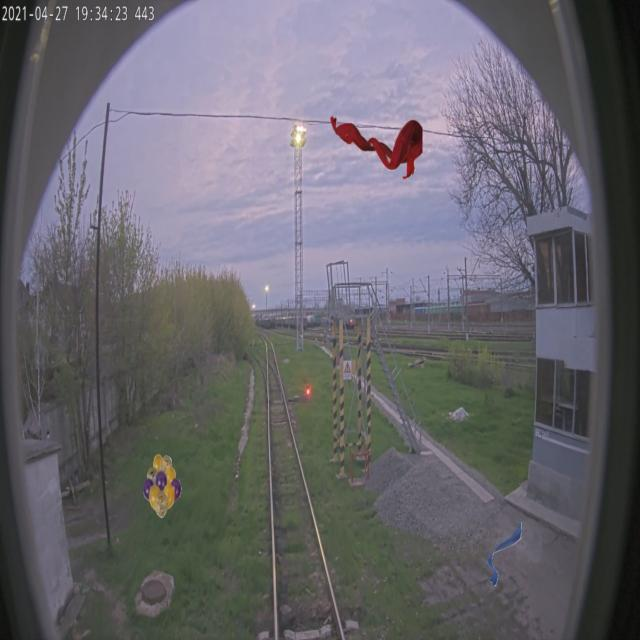balloon: (329, 115, 422, 179), (142, 454, 182, 518)
floating object: (487, 522, 522, 586)
